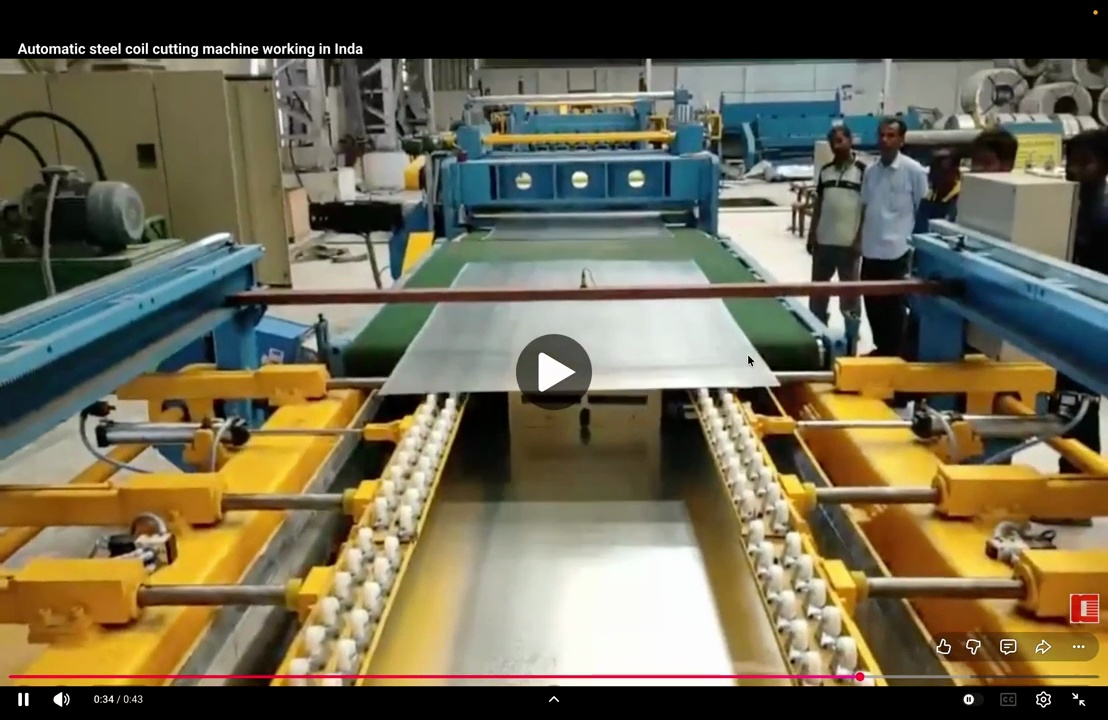steel plate: (380, 299, 777, 394), (486, 217, 671, 240)
